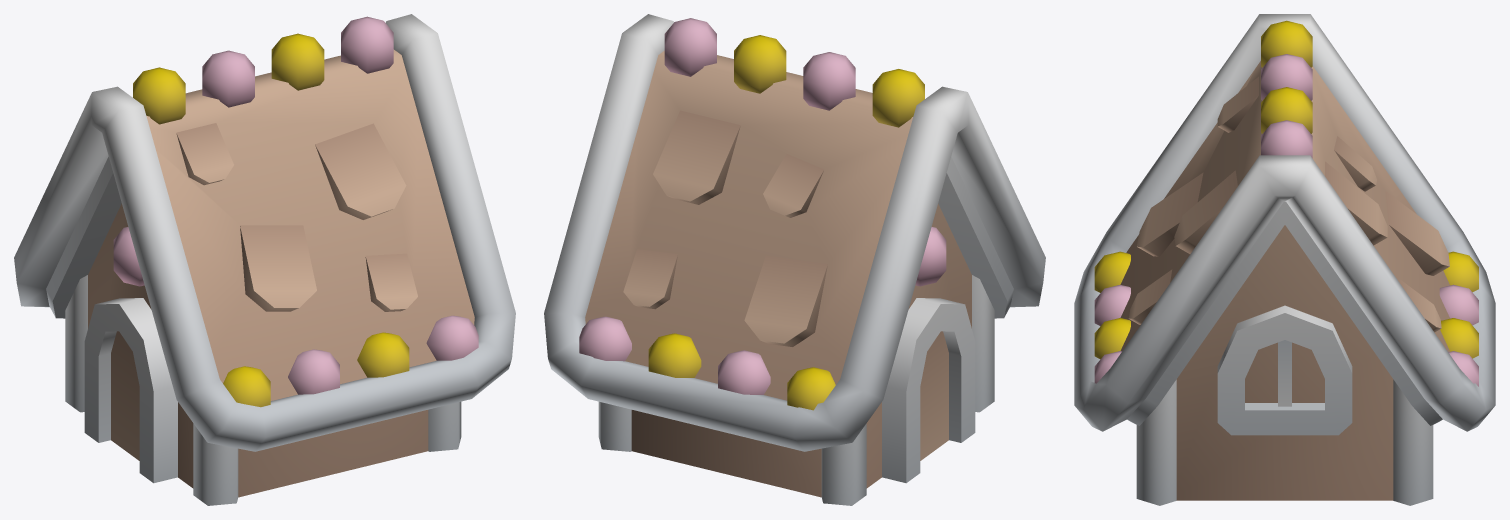
File: gingerbread-house.glb
3 views of the same model, side by side, from view 1: azimuth 30°, elevation 25°; view 2: azimuth 150°, elevation 25°; view 3: azimuth 270°, elevation 25° (orthographic). The views are drawn at different scales.
Parts seen in each view (by area): view 1: gingerbread-house; view 2: gingerbread-house; view 3: gingerbread-house.
Part boxes in pixels (left/top/right/bottom): gingerbread-house: left=14, top=14, right=515, bottom=505; gingerbread-house: left=544, top=14, right=1045, bottom=505; gingerbread-house: left=1074, top=14, right=1495, bottom=505.
Size of the model in its own units: 0.3884 by 0.4163 by 0.4302.
